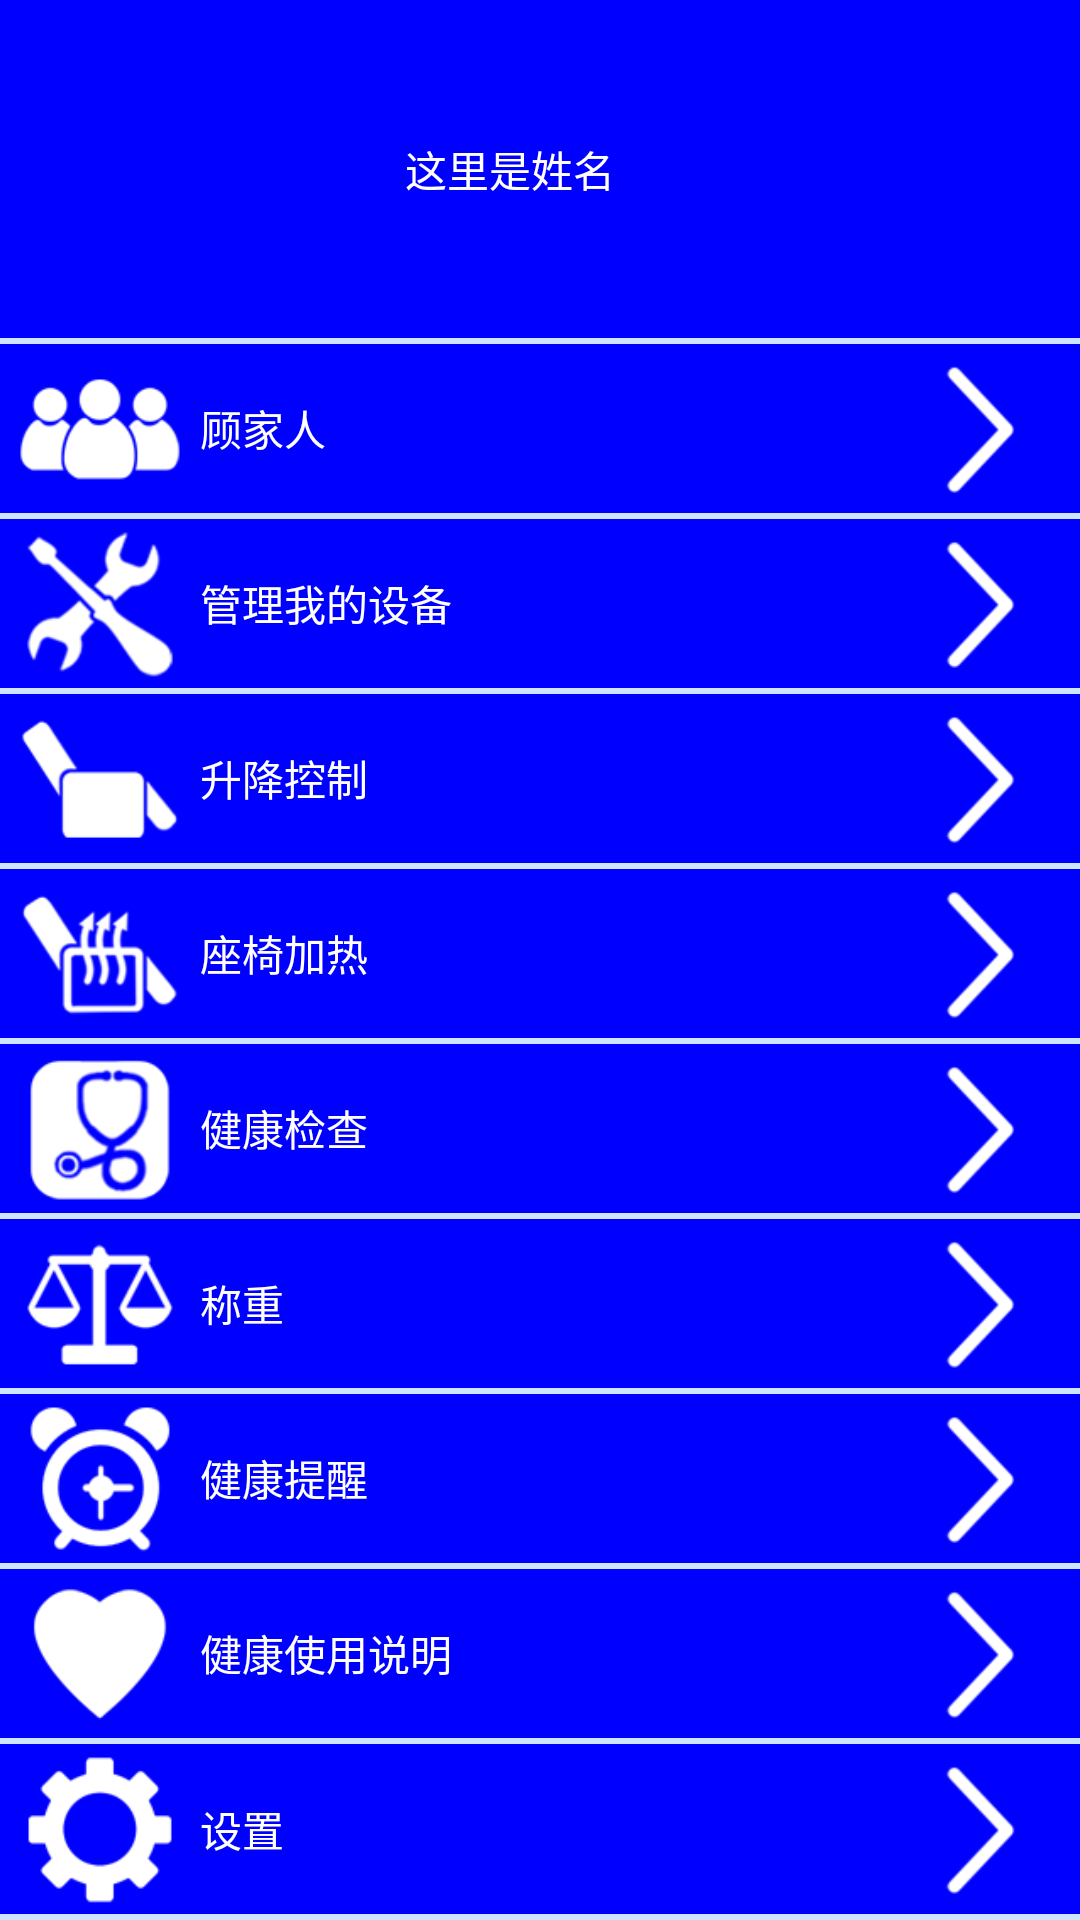

Icon bounding boxes for this 1080px×1920px phone screenshot, format (x1, y1, x2, y2):
sofa control: (22, 721, 177, 838)
